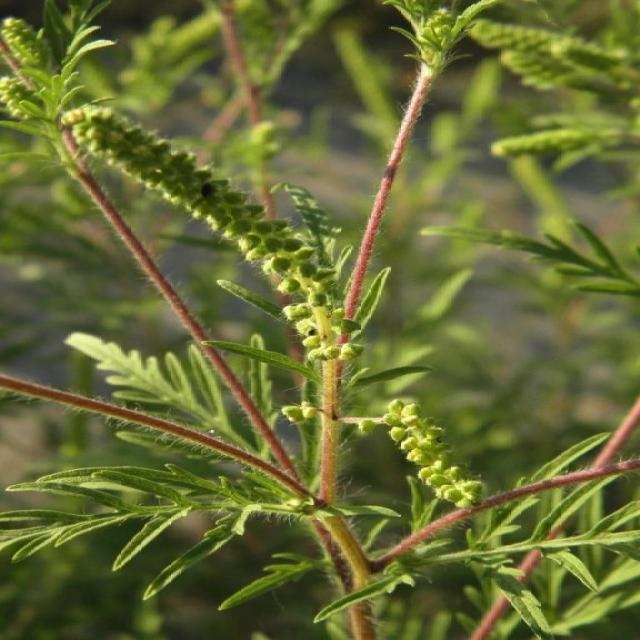ambrosia: (46, 78, 441, 396), (341, 399, 545, 539)
